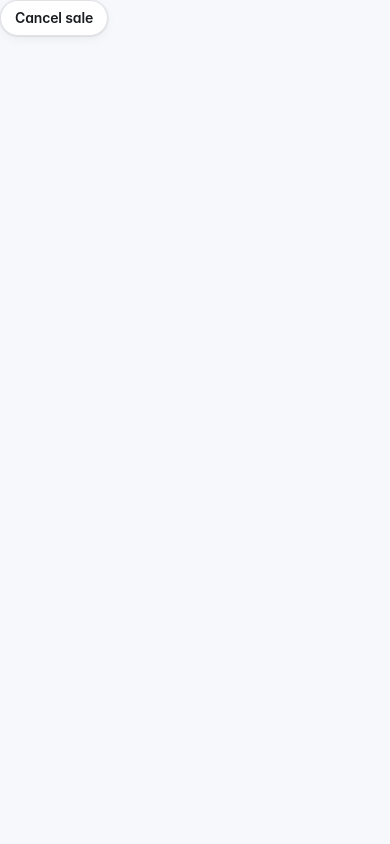
Scenario: ConfirmAction › does not fire the action until it is confirmed
Later steps or results of the test are not shown.
What coordinates should you click on to do the following:
click the button "Cancel sale"
I would click on:
 (54, 18)
Its box is [0, 0, 108, 36].
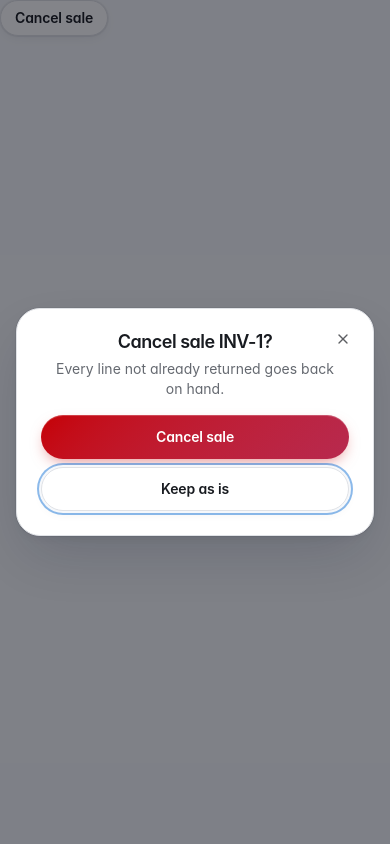
expect the dialog is shown: met, box [16, 308, 374, 536]
